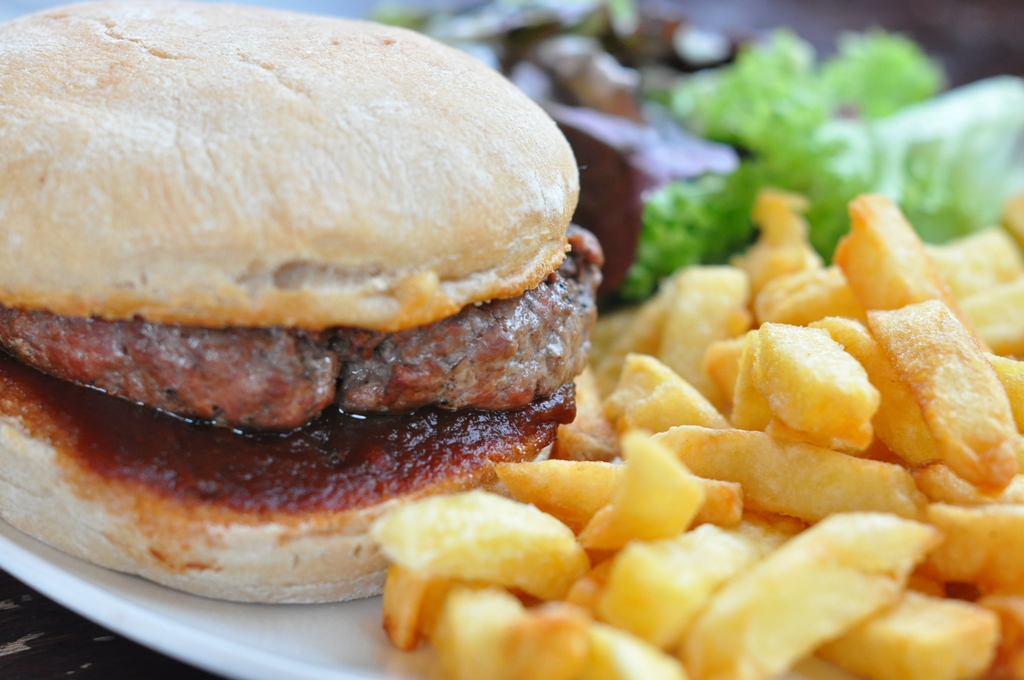French fries: (364, 177, 1023, 679)
